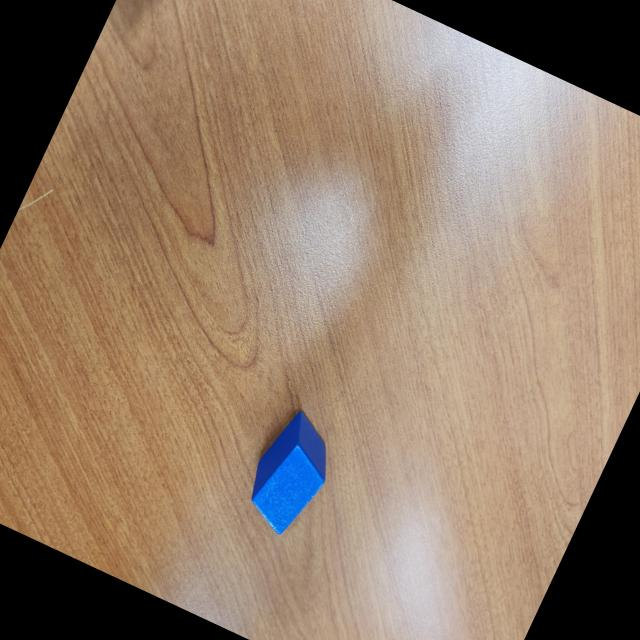blue: (231, 402, 348, 544)
